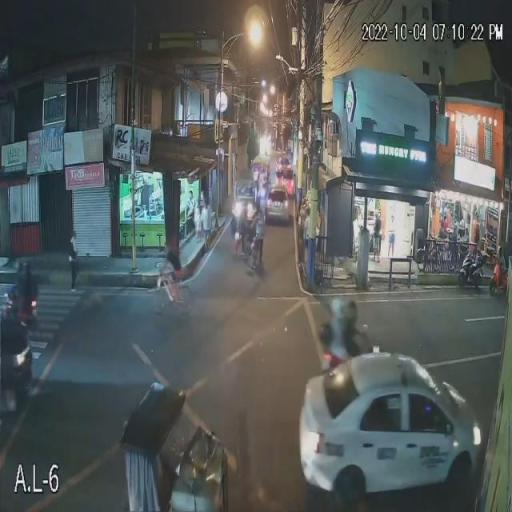helmet: (327, 293, 350, 324), (346, 299, 363, 325)
motorcycle: (313, 328, 387, 372), (456, 246, 483, 293)
rider: (317, 316, 355, 369), (342, 322, 368, 363)
